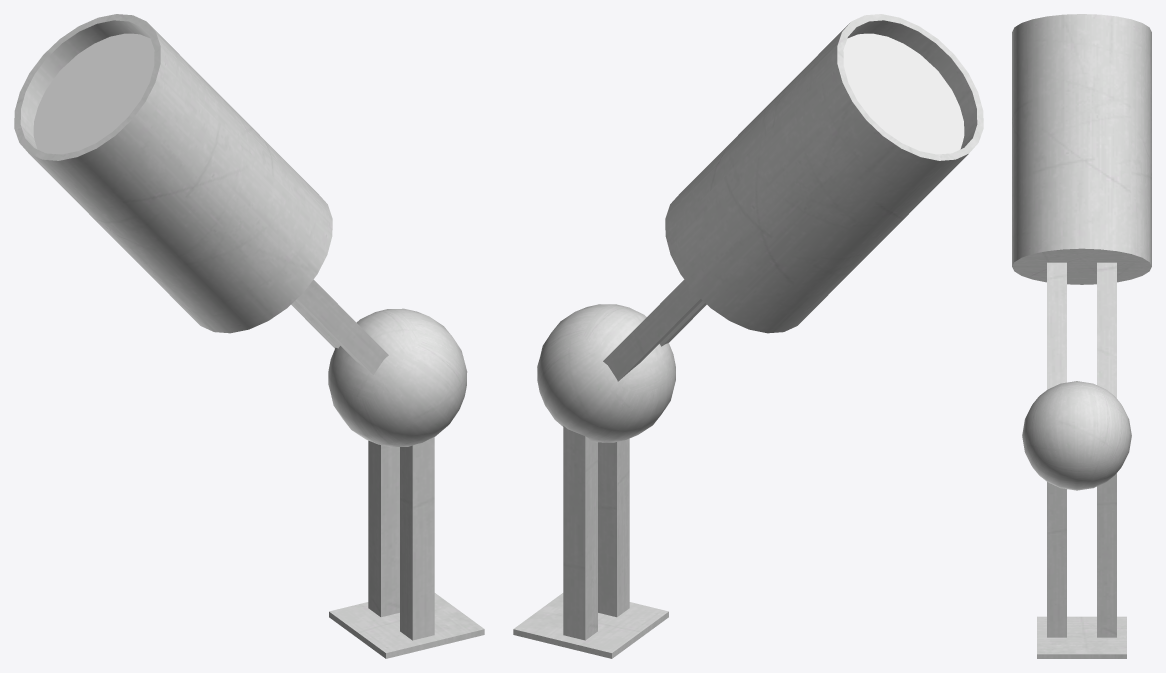
The model's file is ground light.obj.
The picture shows the model from 3 angles, left to right: view 1: azimuth 30°, elevation 25°; view 2: azimuth 150°, elevation 25°; view 3: azimuth 270°, elevation 25°; orthographic projection. The views are drawn at different scales.
Visible parts, largest first — view 1: ground_light; view 2: ground_light; view 3: ground_light.
Part boxes in pixels (x1=…): ground_light: x1=14, y1=14, x2=484, y2=658; ground_light: x1=513, y1=14, x2=983, y2=658; ground_light: x1=1012, y1=14, x2=1151, y2=658.
Size of the model in its own units: 1.88 by 2.81 by 0.6776.
Materials: 2 (1 with a texture image).
